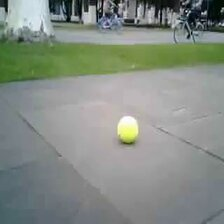tennis: (118, 116, 139, 144)
